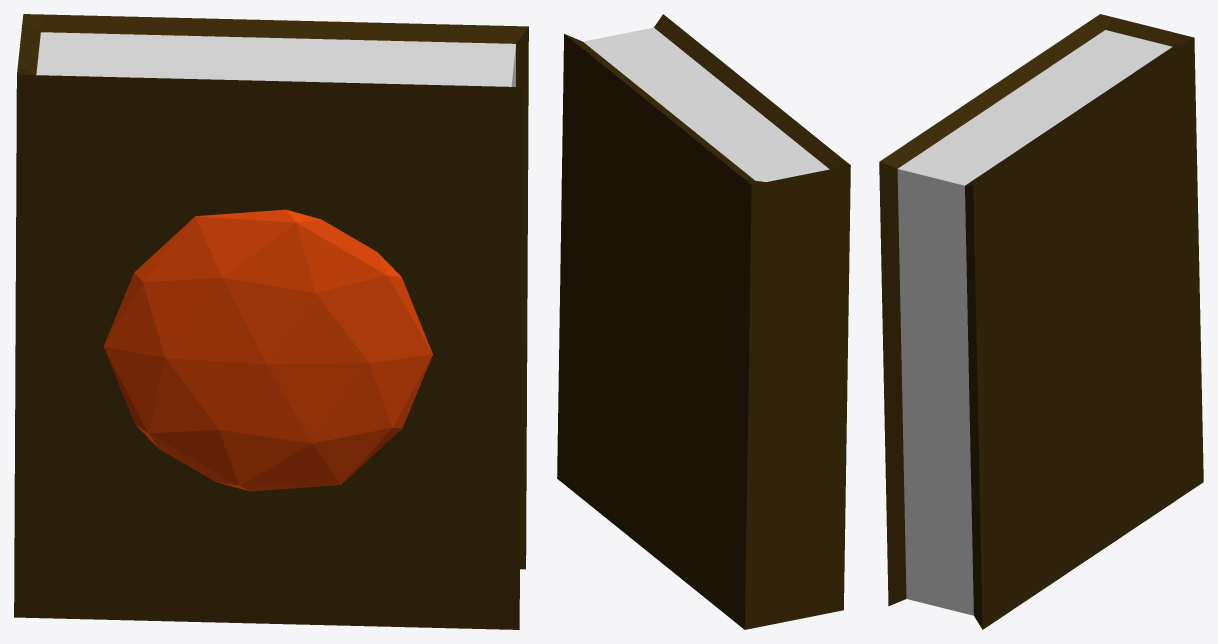
File: firespell.fbx
3 views of the same model, side by side, from view 1: azimuth 30°, elevation 25°; view 2: azimuth 150°, elevation 25°; view 3: azimuth 270°, elevation 25° (orthographic). The views are drawn at different scales.
Visible parts, largest first — view 1: Cube.001; view 2: Cube.001; view 3: Cube.001.
Boxes of the visible parts, x1=… form: Cube.001: x1=14, y1=14, x2=528, y2=629; Cube.001: x1=557, y1=14, x2=850, y2=629; Cube.001: x1=879, y1=14, x2=1203, y2=629.
Size of the model in its own units: 2985 by 3611 by 2374.
